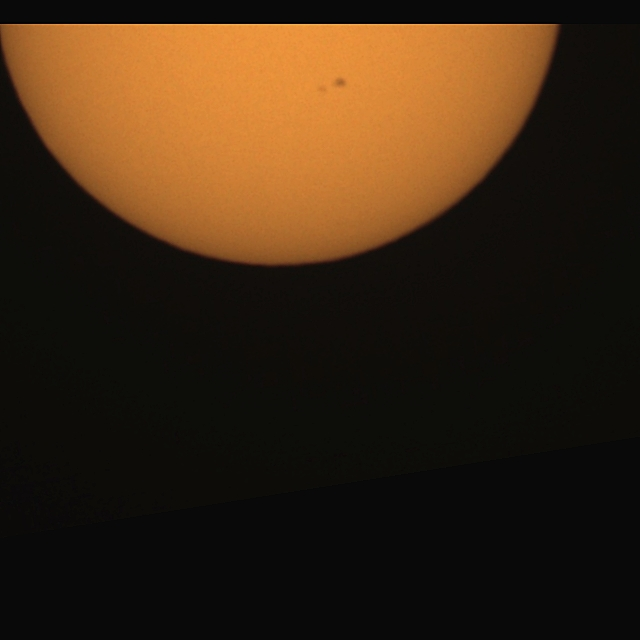sunspot: (316, 76, 348, 95), (330, 76, 348, 90)
